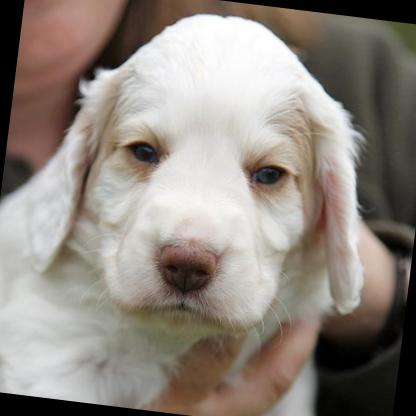clumber: (0, 0, 394, 416)
